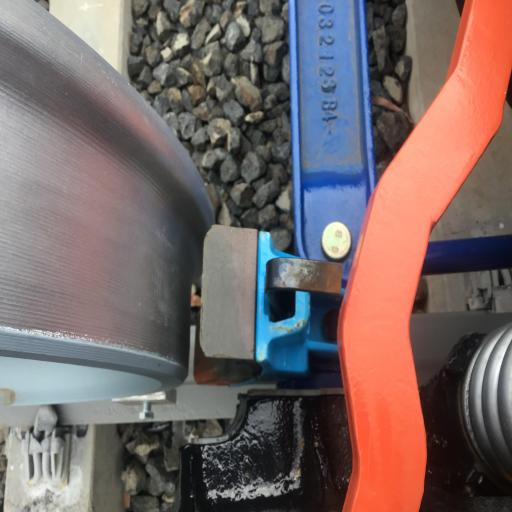segmentation: (300, 258, 342, 294), (272, 321, 303, 332), (191, 295, 201, 306)
